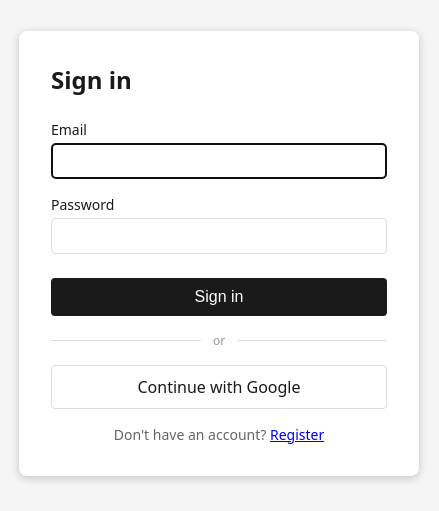
Test: LoginPage › shows generic error on unexpected failure
This screenshot has width=439, height=511.
Step 1. Type "a@b.com" into the field labelled "Email" → point(219, 160), box [51, 142, 387, 178]
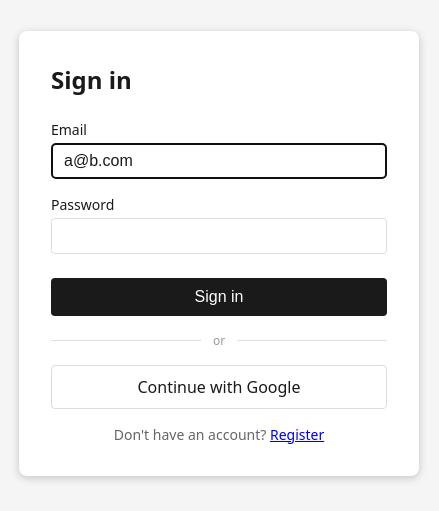
Step 2. Type "secret" into the password field labelled "Password" → point(219, 236), box [51, 218, 387, 254]
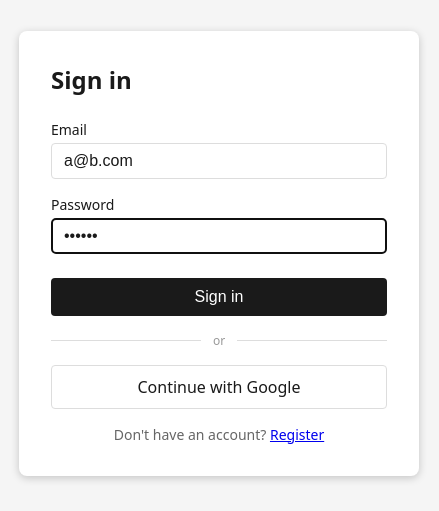
Step 3. Click the button "Sign in" → point(219, 296), box [51, 278, 387, 316]
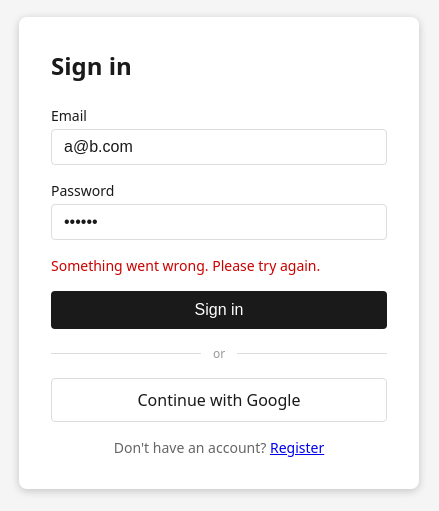
Check: the text "Something went wrong. Please try again." is shown, box [51, 256, 320, 275]
